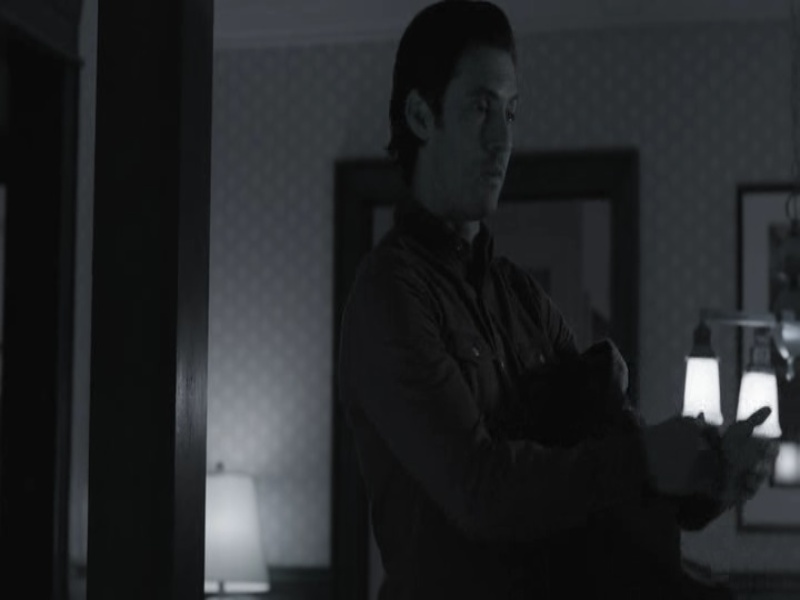TsisyArotava: (402, 14, 540, 241)
